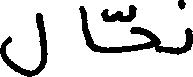X: (0, 8, 44, 76), (133, 0, 155, 55), (181, 0, 192, 58), (83, 1, 91, 54)
